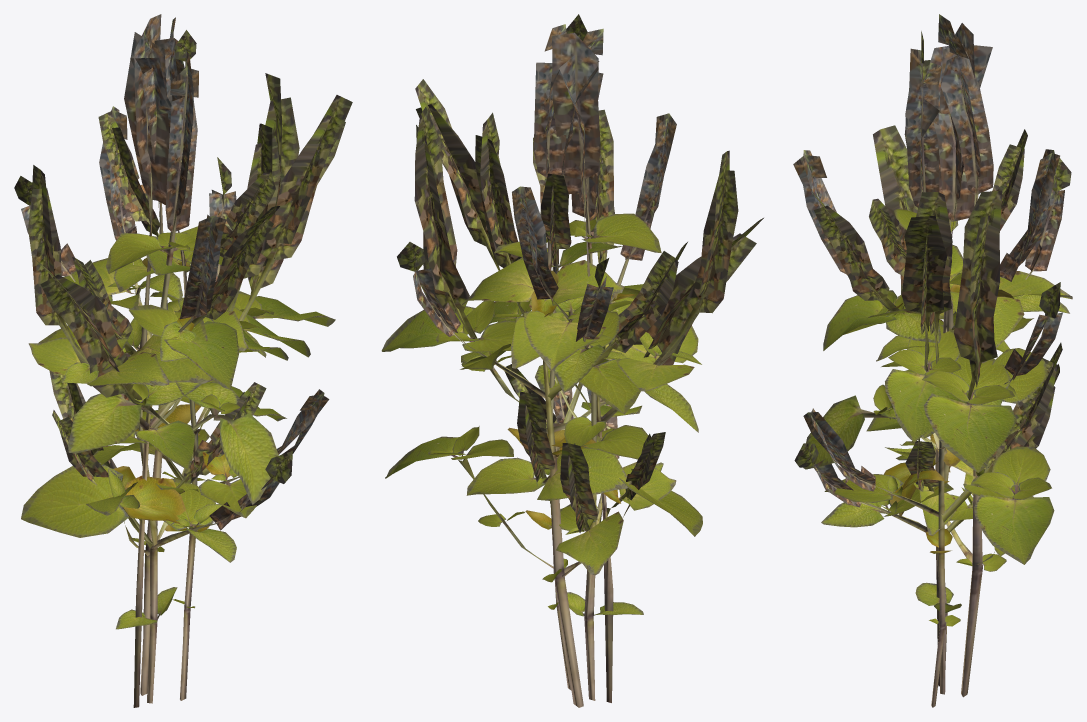
The model's file is shrub_03.glb.
The picture shows the model from 3 angles, left to right: view 1: azimuth 30°, elevation 25°; view 2: azimuth 150°, elevation 25°; view 3: azimuth 270°, elevation 25°; orthographic projection.
Visible parts, largest first — view 1: v0, v1, v3, v2; view 2: v0, v1, v2, v3; view 3: v1, v0, v3, v2.
Part boxes in pixels (left/top/right/bottom): v0: left=28, top=30, right=352, bottom=707; v1: left=33, top=27, right=335, bottom=700; v3: left=21, top=17, right=286, bottom=695; v2: left=14, top=14, right=292, bottom=703; v0: left=415, top=14, right=738, bottom=702; v1: left=381, top=28, right=763, bottom=690; v2: left=475, top=32, right=653, bottom=700; v3: left=385, top=24, right=702, bottom=707; v1: left=803, top=14, right=1062, bottom=707; v0: left=793, top=31, right=1072, bottom=686; v3: left=803, top=30, right=1062, bottom=697; v2: left=794, top=23, right=1071, bottom=694.
Bounding box in the file's own units: 0.5231 × 1 × 0.3752.
1 material, 1 textured.
